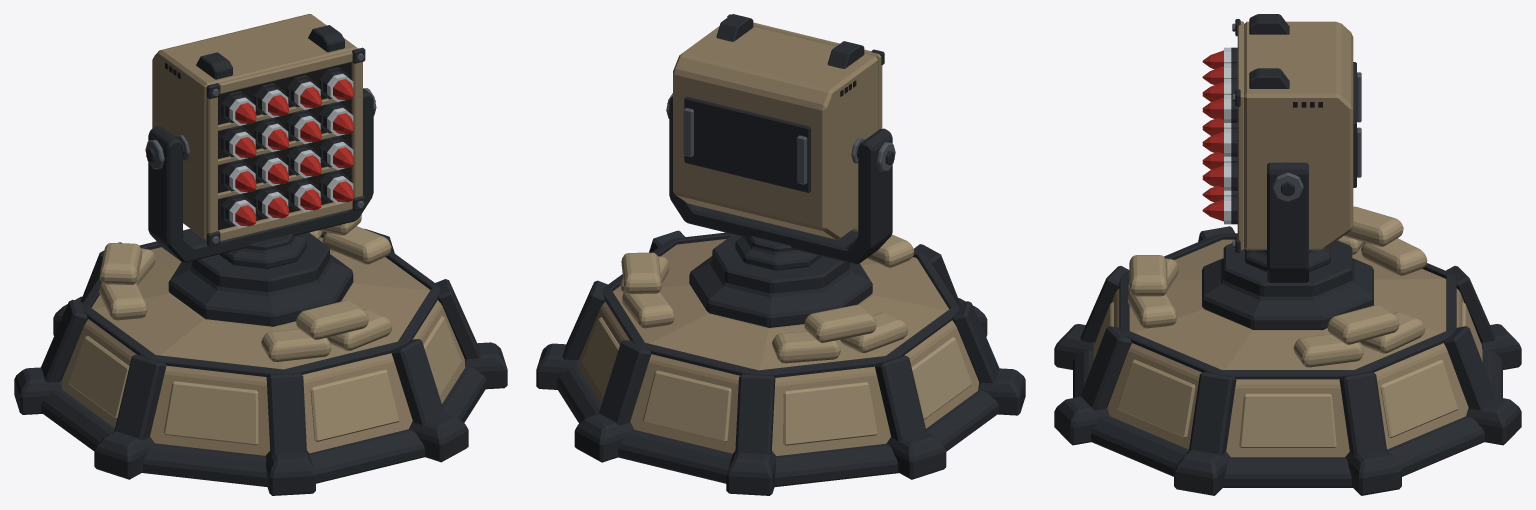
File: rk40-brasa-n5.glb
The picture shows the model from 3 angles, left to right: view 1: azimuth 30°, elevation 25°; view 2: azimuth 150°, elevation 25°; view 3: azimuth 270°, elevation 25°; orthographic projection.
Parts seen in each view (by area): view 1: casco, gun_pitch, turret_yaw, rocket_13, rocket_01, rocket_11, rocket_15, rocket_05, rocket_07, rocket_09, rocket_03, rocket_14 (+7 smaller); view 2: casco, gun_pitch, turret_yaw; view 3: casco, gun_pitch, turret_yaw, rocket_08, rocket_12, rocket_16, rocket_04, rocket_01.
Boxes of the visible parts, x1,y1,x2,y2 form: casco: (14,214,507,495); gun_pitch: (152,14,365,246); turret_yaw: (145,88,376,268); rocket_13: (225,197,256,228); rocket_01: (225,94,256,125); rocket_11: (290,147,321,178); rocket_15: (290,181,321,212); rocket_05: (225,128,256,159); rocket_07: (290,113,321,143); rocket_09: (225,163,256,193); rocket_03: (290,78,321,109); rocket_14: (258,189,288,220); casco: (536,225,1025,495); gun_pitch: (673,14,884,239); turret_yaw: (666,93,895,270); casco: (1054,206,1521,495); gun_pitch: (1232,14,1361,252); turret_yaw: (1245,162,1330,282); rocket_08: (1202,128,1237,156); rocket_12: (1202,162,1237,190); rocket_16: (1202,196,1237,224); rocket_04: (1202,95,1237,122); rocket_01: (1202,47,1237,69).
Size of the model in its own units: 1 by 0.835 by 1.
